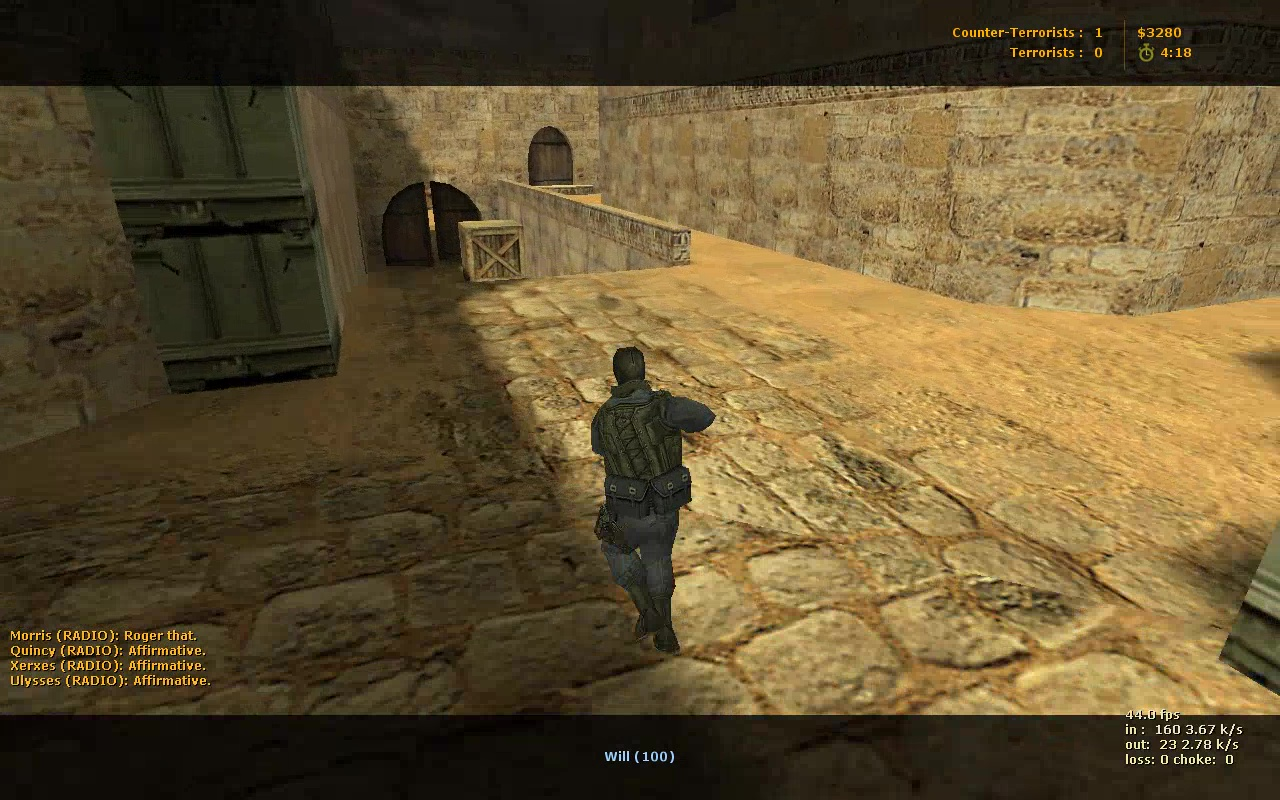ct: (587, 347, 718, 653)
